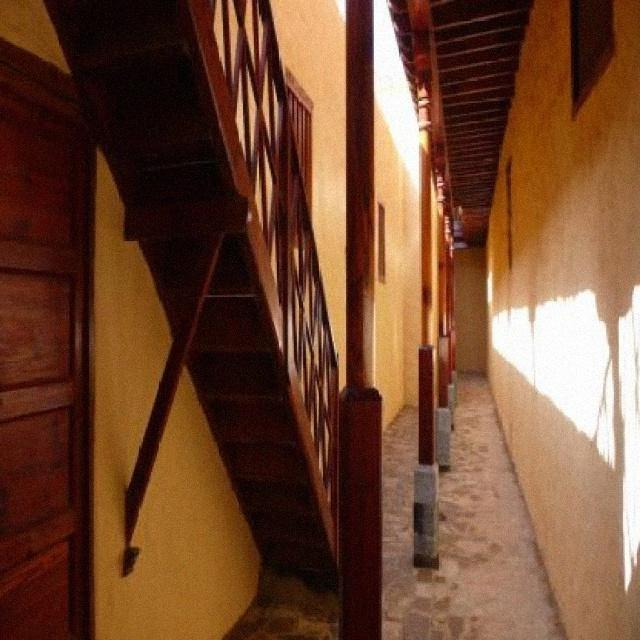stair: (192, 0, 345, 580)
